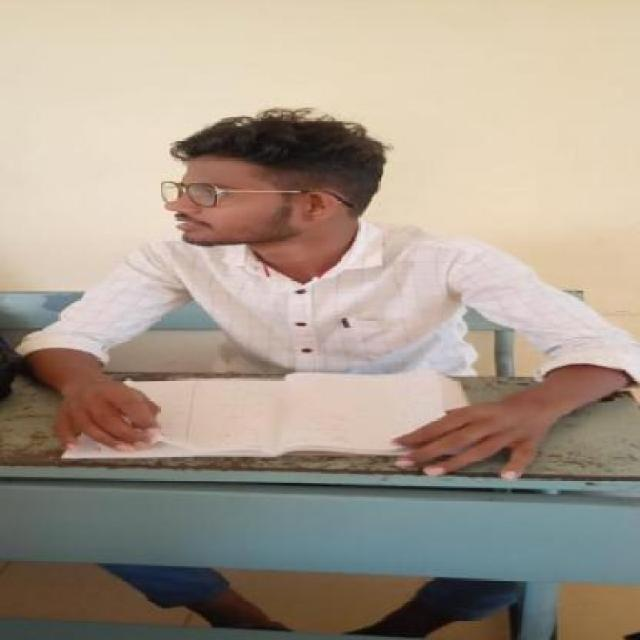cheating: (140, 99, 406, 286)
